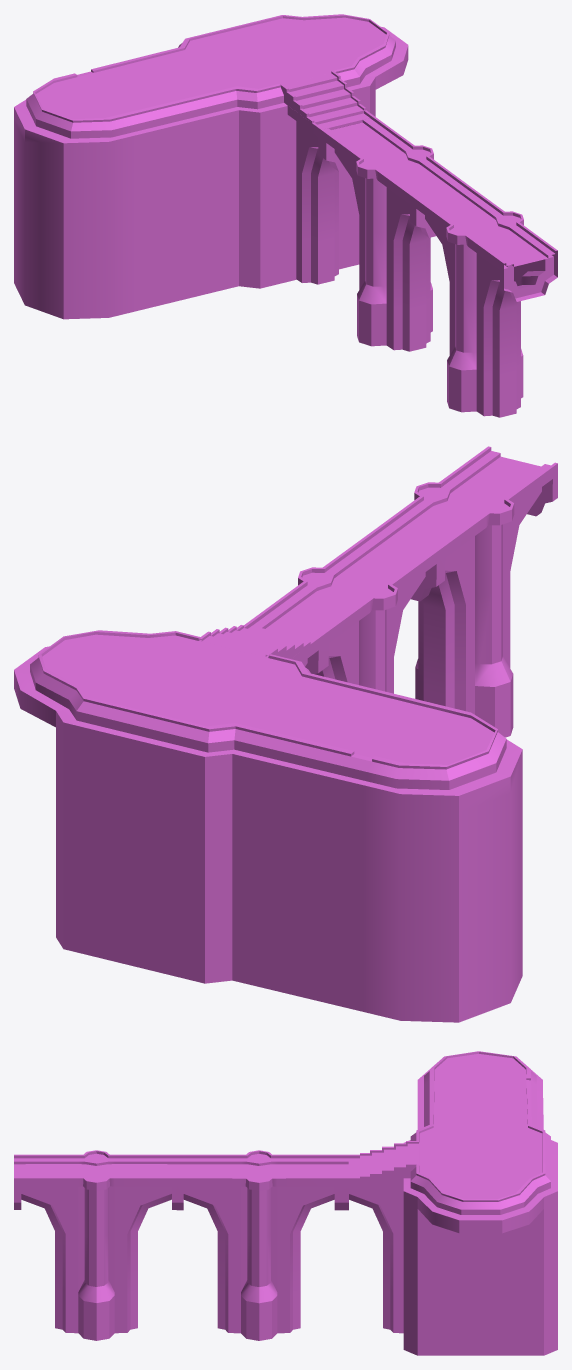
Rendered from puentes.fbx.
3 views of the same model, one above another, from view 1: azimuth 30°, elevation 25°; view 2: azimuth 150°, elevation 25°; view 3: azimuth 270°, elevation 25° (orthographic). The views are drawn at different scales.
Visible parts, largest first — view 1: piso_UVs, puente_esquina_UVs, puente_t_UVs, escaleras_UVs; view 2: piso_UVs, puente_t_UVs, puente_esquina_UVs, escaleras_UVs; view 3: piso_UVs, puente_esquina_UVs, puente_t_UVs, escaleras_UVs.
Boxes of the visible parts, x1=… form: piso_UVs: x1=14, y1=14, x2=408, y2=319; puente_esquina_UVs: x1=286, y1=104, x2=465, y2=351; puente_t_UVs: x1=412, y1=183, x2=557, y2=417; escaleras_UVs: x1=280, y1=70, x2=369, y2=129; piso_UVs: x1=14, y1=630, x2=522, y2=1022; puente_t_UVs: x1=371, y1=446, x2=557, y2=737; puente_esquina_UVs: x1=244, y1=532, x2=439, y2=693; escaleras_UVs: x1=199, y1=625, x2=311, y2=658; piso_UVs: x1=403, y1=1051, x2=557, y2=1355; puente_esquina_UVs: x1=176, y1=1150, x2=403, y2=1340; puente_t_UVs: x1=14, y1=1150, x2=179, y2=1340; escaleras_UVs: x1=348, y1=1141, x2=418, y2=1178.
Size of the model in its own units: 79.53 by 39.11 by 112.
